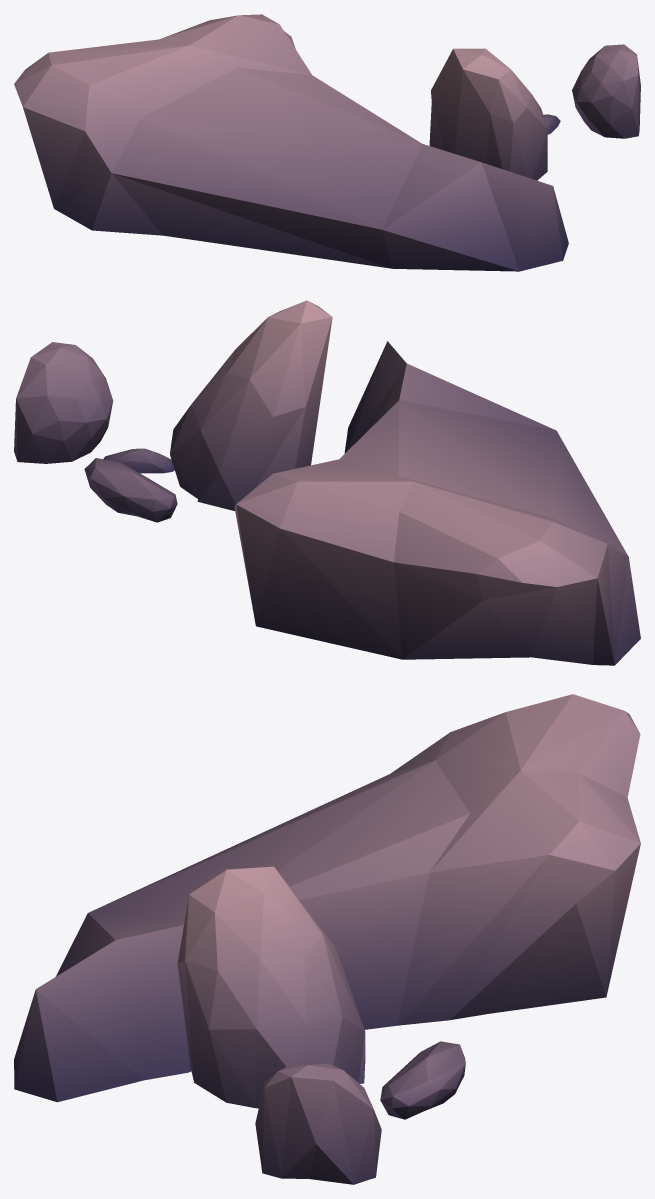
File: props 0 - 04.fbx
3 views of the same model, one above another, from view 1: azimuth 30°, elevation 25°; view 2: azimuth 150°, elevation 25°; view 3: azimuth 270°, elevation 25° (orthographic). The views are drawn at different scales.
Parts seen in each view (by area): view 1: 004; view 2: 004; view 3: 004.
Boxes of the visible parts, box(x1,y1,x2,y2) form: 004: box(14, 14, 640, 271); 004: box(14, 300, 640, 665); 004: box(14, 694, 640, 1184).
Bounding box in the file's own units: 198 × 53.9 × 142.
